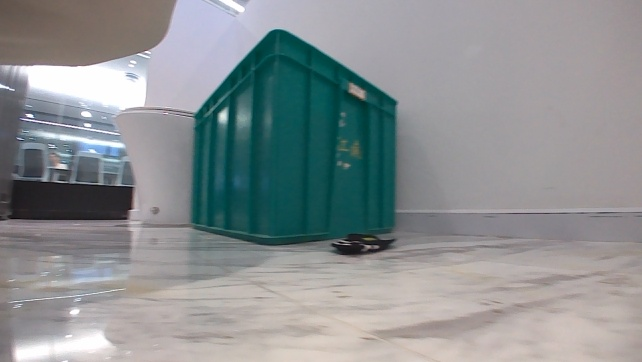socks: (331, 229, 397, 255)
toilet: (112, 104, 202, 226)
